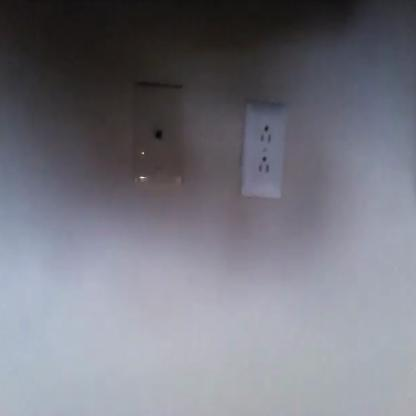OUTLET: (240, 109, 286, 197)
